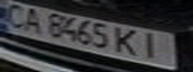4: (57, 15, 78, 43)
5: (90, 20, 115, 52)
6: (75, 18, 93, 47)
8: (42, 11, 66, 39)
A: (18, 6, 48, 35)
C: (0, 1, 30, 29)
I: (136, 30, 172, 62)
K: (112, 25, 145, 57)
